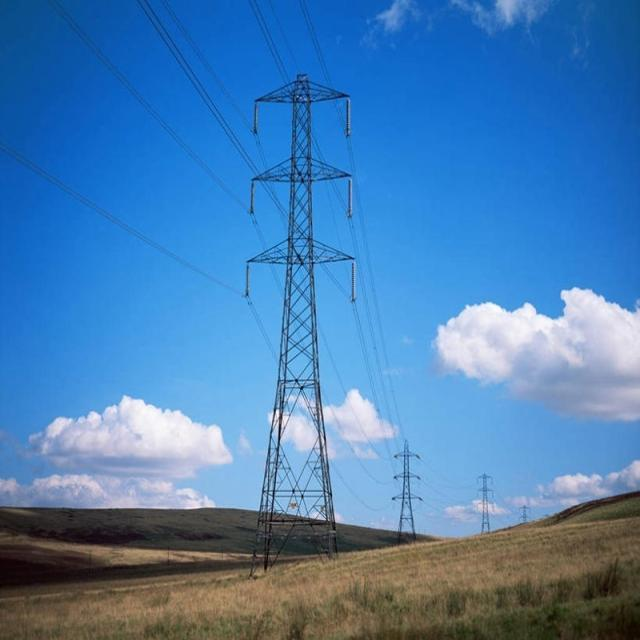non-critical vegetation: (231, 66, 361, 558), (387, 434, 427, 544), (474, 468, 496, 540)
